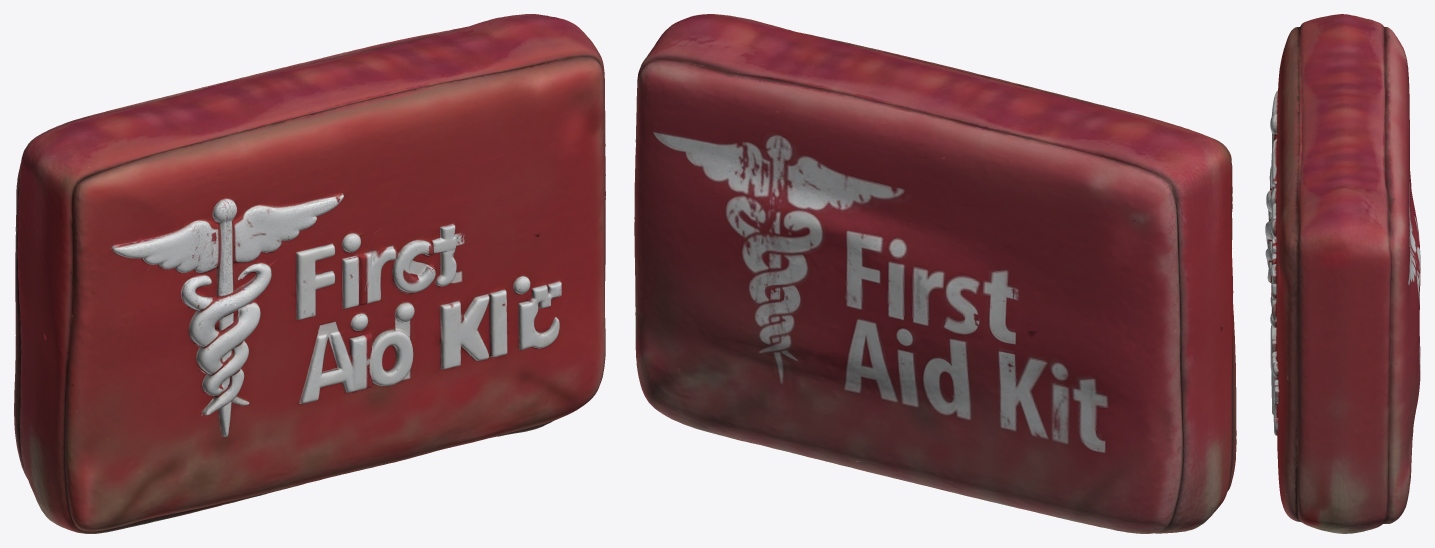
The model's file is firstaid.glb.
3 renders of one model, left to right at view 1: azimuth 30°, elevation 25°; view 2: azimuth 150°, elevation 25°; view 3: azimuth 270°, elevation 25°, orthographic. The views are drawn at different scales.
Parts seen in each view (by area): view 1: Object_5, Object_4, Object_6; view 2: Object_5, Object_4, Object_6; view 3: Object_4, Object_5, Object_6.
Part boxes in pixels (<box>): Object_5: <box>15,14,605,533</box>; Object_4: <box>14,15,605,532</box>; Object_6: <box>30,18,605,533</box>; Object_5: <box>634,23,1236,533</box>; Object_4: <box>634,15,1236,533</box>; Object_6: <box>665,14,1236,527</box>; Object_4: <box>1265,14,1420,533</box>; Object_5: <box>1265,14,1420,532</box>; Object_6: <box>1294,15,1355,533</box>.
Bounding box in the file's own units: 1.9 × 1.3 × 0.5534.
1 material, 1 textured.
